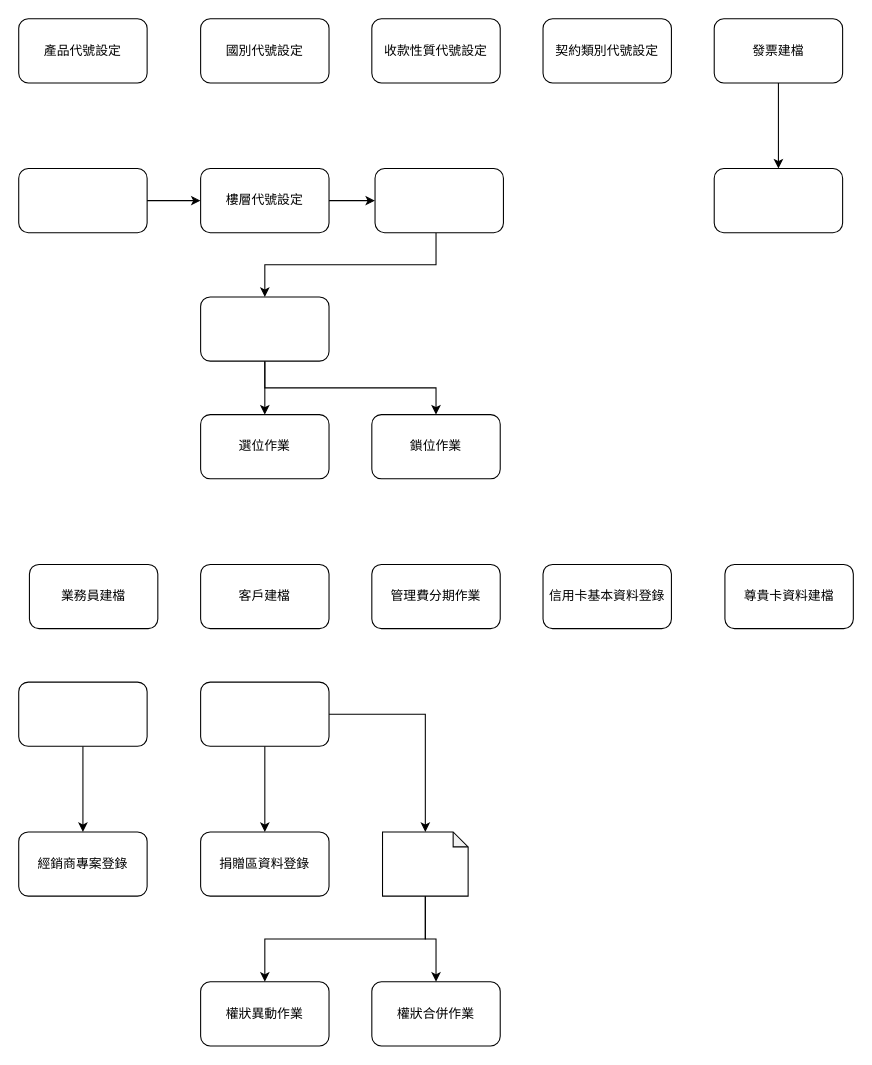
Some shapes in this 872 by 1065 pixel diagram are drawn without their labels. Each missing label, with the centre of its shape:
"區域代號設定" goes at [438,200].
"棟別代號設定" goes at [82,200].
"樓層區域單位建檔" goes at [264,328].
"權狀" goes at [424,863].
"發票開立作業" goes at [778,200].
"經銷商建檔" goes at [82,713].
"預購客戶資料登錄" goes at [264,713].
